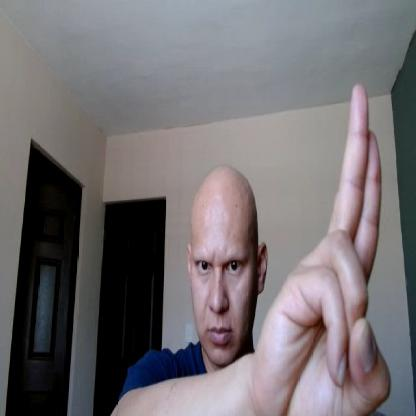U: (263, 83, 393, 415)
